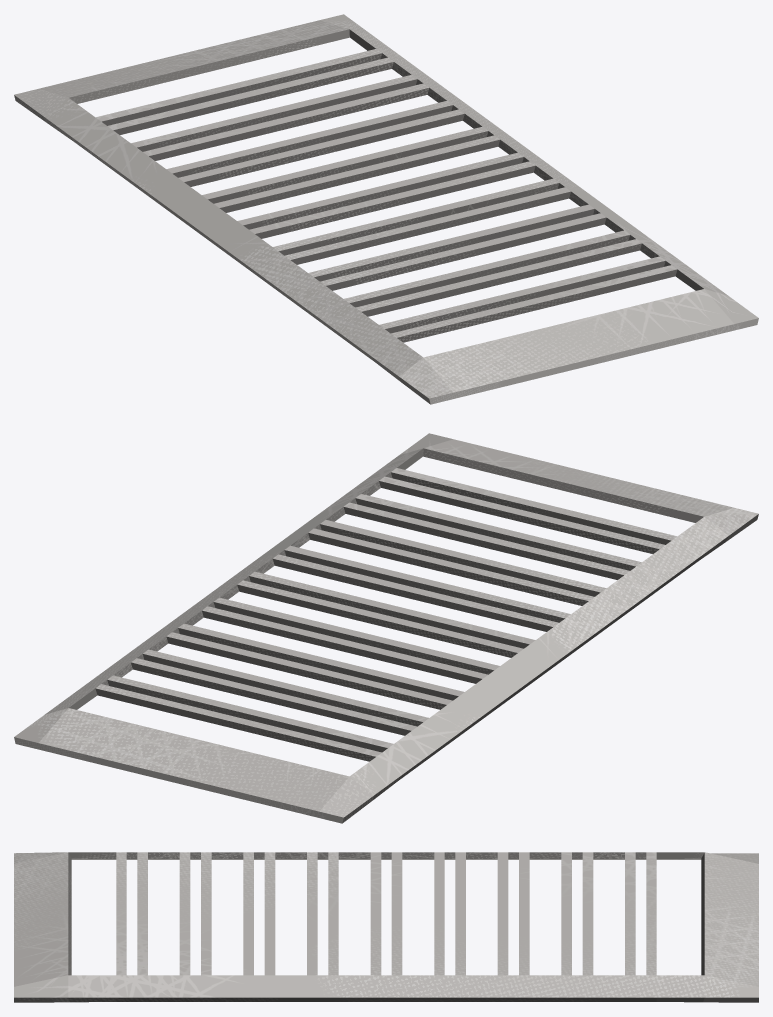
The model's file is vent_.fbx.
3 views of the same model, one above another, from view 1: azimuth 30°, elevation 25°; view 2: azimuth 150°, elevation 25°; view 3: azimuth 270°, elevation 25° (orthographic). The views are drawn at different scales.
Parts seen in each view (by area): view 1: Plane; view 2: Plane; view 3: Plane.
Part boxes in pixels (box(x1,y1,x2,y2)): Plane: box(14, 14, 758, 404); Plane: box(14, 433, 758, 823); Plane: box(14, 852, 758, 1002).
Bounding box in the file's own units: 200 × 11.35 × 436.
Materials: 1 (1 with a texture image).
